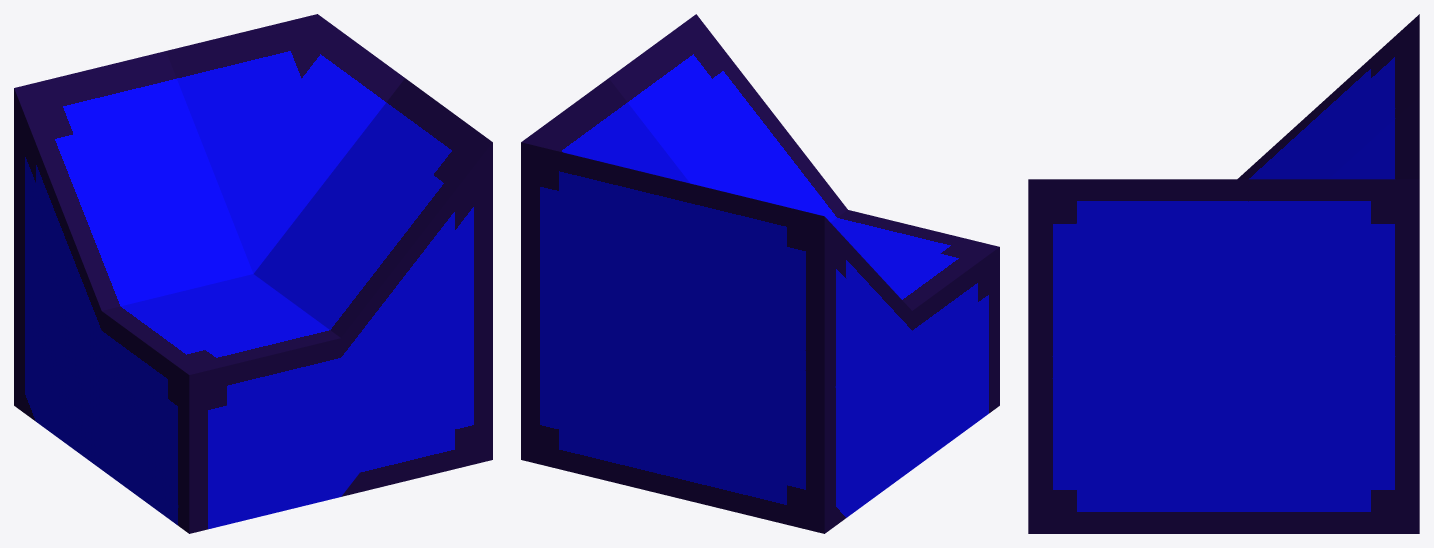
File: 8_blue.obj
3 renders of one model, left to right at view 1: azimuth 30°, elevation 25°; view 2: azimuth 150°, elevation 25°; view 3: azimuth 270°, elevation 25°, orthographic. The views are drawn at different scales.
Parts seen in each view (by area): view 1: 8_blue; view 2: 8_blue; view 3: 8_blue.
Part boxes in pixels (box(x1,y1,x2,y2)): 8_blue: box(14, 14, 492, 533); 8_blue: box(521, 14, 999, 533); 8_blue: box(1028, 14, 1419, 533).
Bounding box in the file's own units: 1 × 1 × 1.
Materials: 1 (1 with a texture image).
